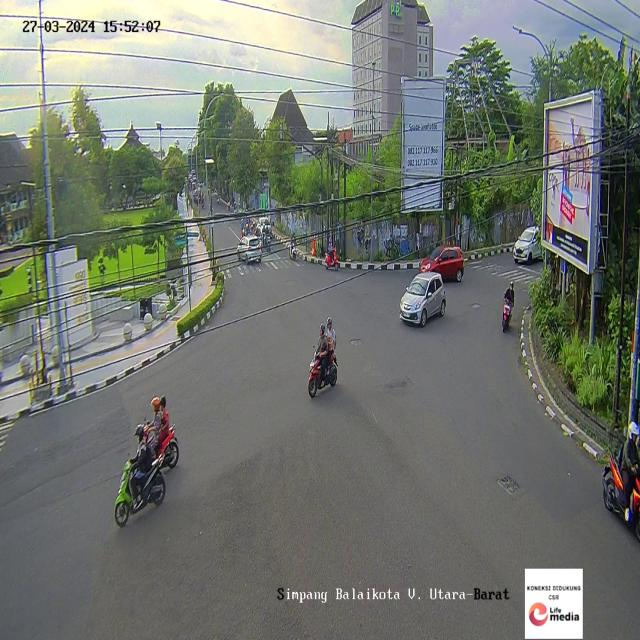car: (400, 272, 448, 326), (418, 248, 467, 284), (513, 225, 542, 263), (238, 235, 262, 265)
motorcycle: (115, 427, 173, 528), (600, 419, 640, 533), (141, 394, 179, 467), (306, 320, 338, 397), (501, 279, 516, 333), (323, 237, 339, 273), (289, 232, 298, 263)
